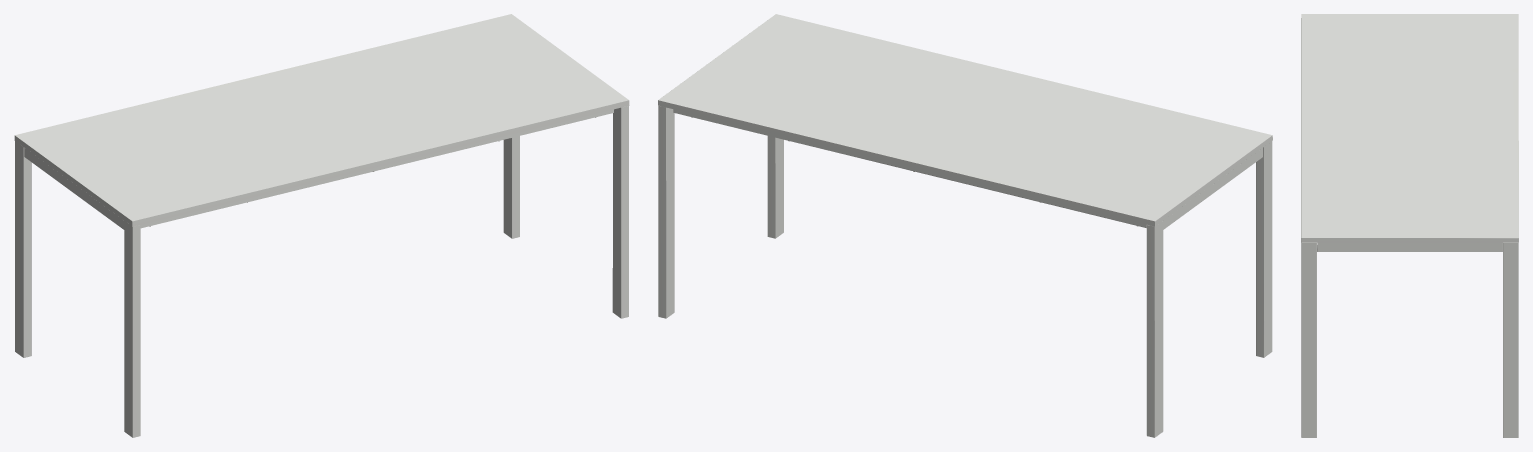
File: table-10.glb
The picture shows the model from 3 angles, left to right: view 1: azimuth 30°, elevation 25°; view 2: azimuth 150°, elevation 25°; view 3: azimuth 270°, elevation 25°; orthographic projection. The views are drawn at different scales.
Parts seen in each view (by area): view 1: 49578518_table:1.002, 49578518_table:1.001; view 2: 49578518_table:1.002, 49578518_table:1.001; view 3: 49578518_table:1.002, 49578518_table:1.001.
Boxes of the visible parts, <box> form: 49578518_table:1.002: <box>14,14,629,226</box>; 49578518_table:1.001: <box>15,106,628,437</box>; 49578518_table:1.002: <box>658,14,1272,226</box>; 49578518_table:1.001: <box>658,105,1272,437</box>; 49578518_table:1.002: <box>1301,14,1518,242</box>; 49578518_table:1.001: <box>1301,242,1518,437</box>.
Bounding box in the file's own units: 1.8 × 0.7499 × 0.7393.
Materials: 1 (1 with a texture image).
